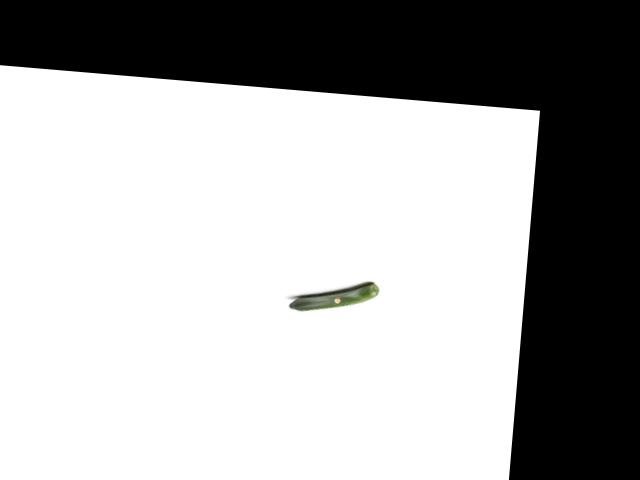cucumber: (289, 276, 380, 317)
